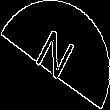N_SW: (30, 23, 80, 87)
